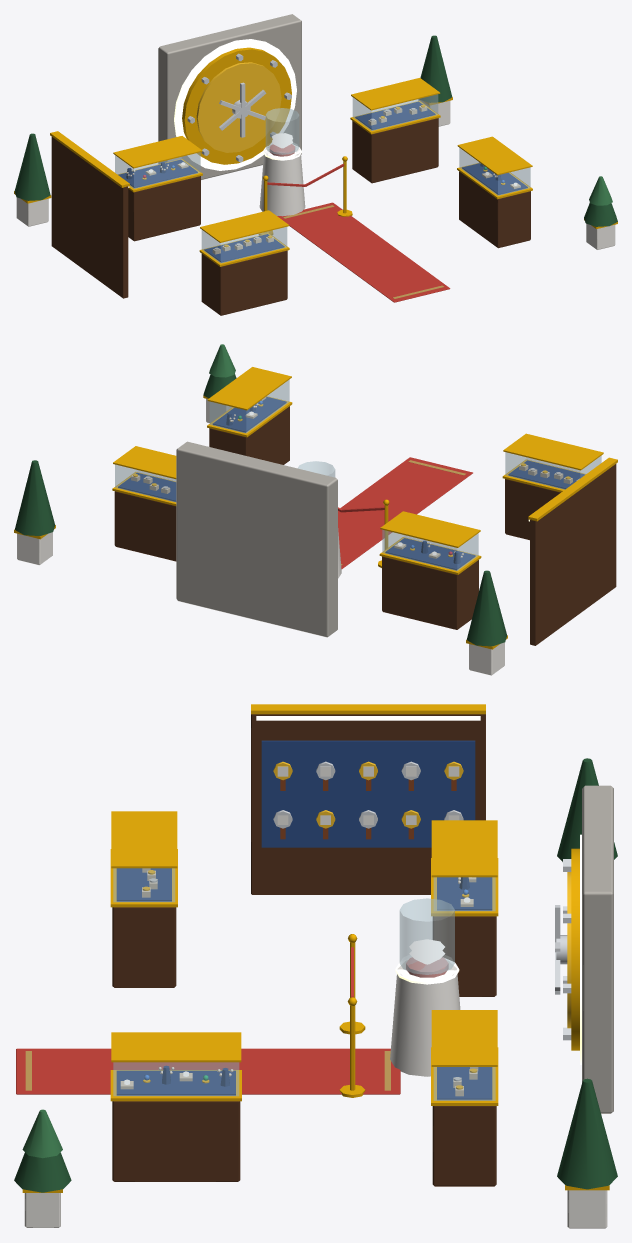
The model's file is einrichtung_tresor.glb.
3 renders of one model, top to bottom at view 1: azimuth 30°, elevation 25°; view 2: azimuth 150°, elevation 25°; view 3: azimuth 270°, elevation 25°, orthographic. The views are drawn at different scales.
Visible parts, largest first — view 1: einrichtung_tresor; view 2: einrichtung_tresor; view 3: einrichtung_tresor.
Part boxes in pixels (x1,y1,x2,y2): einrichtung_tresor: (14, 14, 617, 315); einrichtung_tresor: (14, 344, 617, 675); einrichtung_tresor: (14, 704, 617, 1228).
Bounding box in the file's own units: 7.67 × 2.3 × 5.66.
